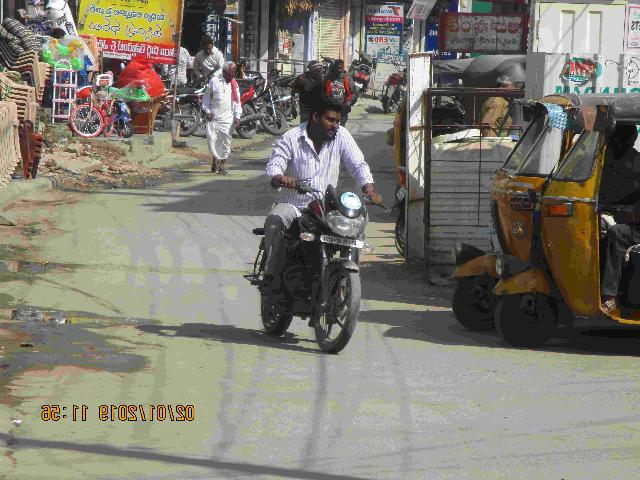motor: (248, 180, 387, 356), (311, 98, 346, 142)
